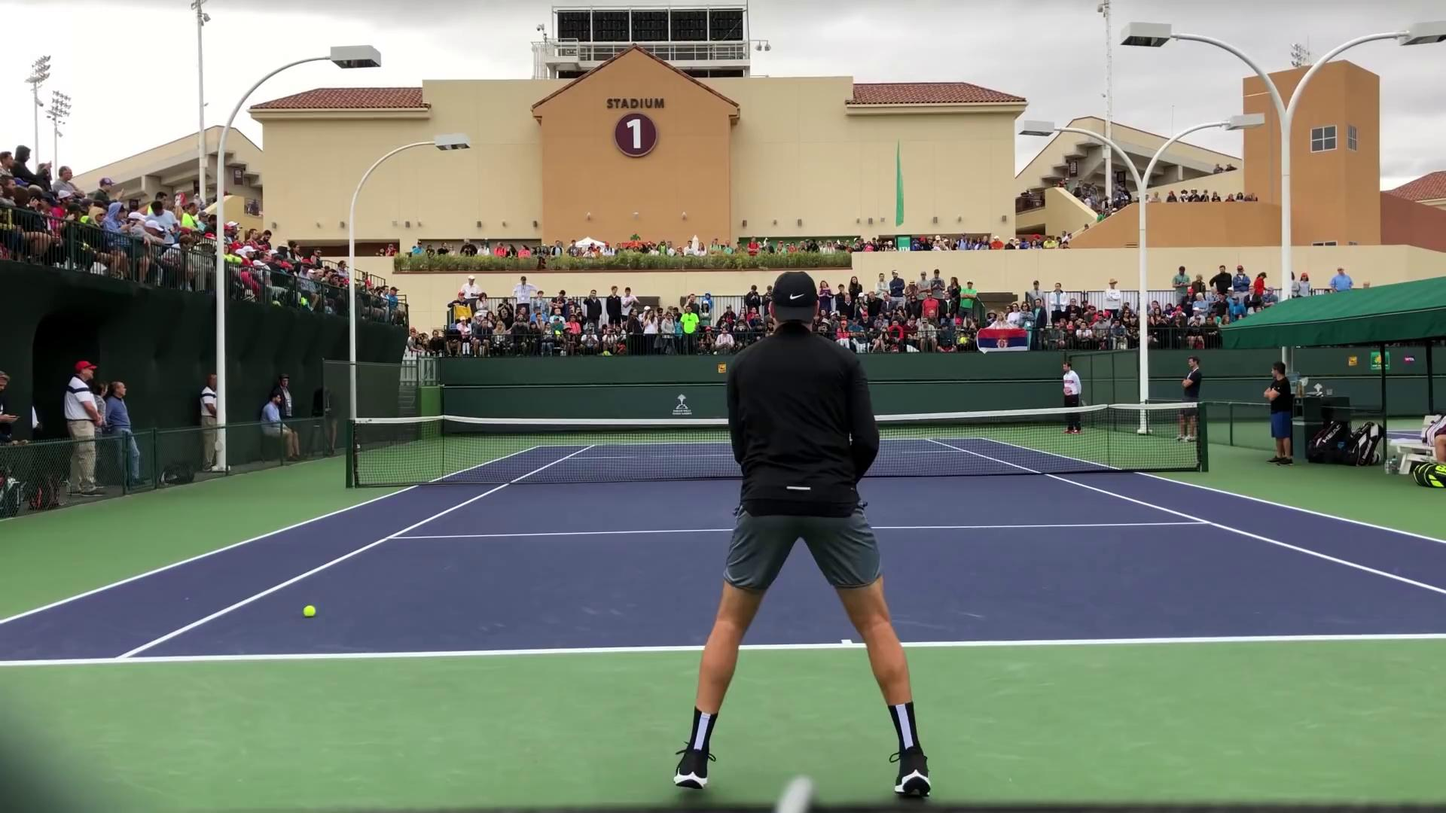ball: (303, 605, 316, 618)
